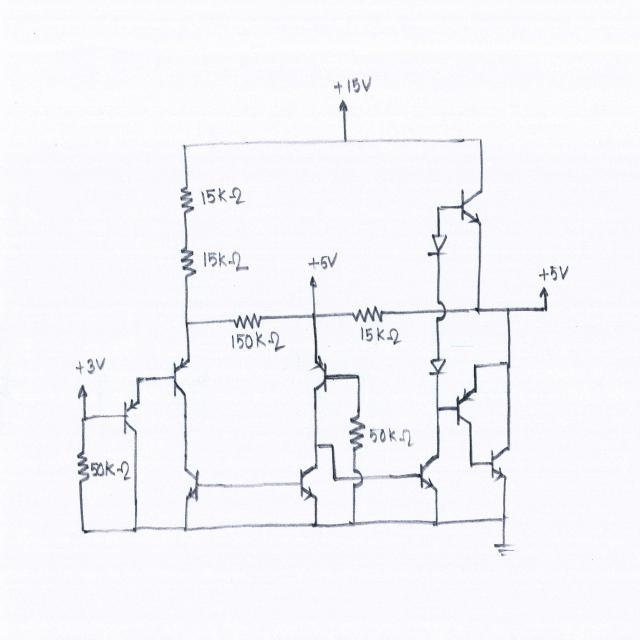ground: (490, 540, 520, 560)
resistor: (177, 241, 202, 282), (348, 406, 368, 455), (227, 309, 267, 333), (344, 305, 388, 324), (177, 181, 198, 216), (74, 446, 91, 486)
transistor: (456, 181, 486, 229), (176, 461, 205, 506), (118, 394, 146, 437), (453, 381, 477, 431), (171, 354, 194, 405), (306, 351, 331, 397), (297, 458, 322, 503), (415, 452, 442, 493), (486, 444, 514, 483)
